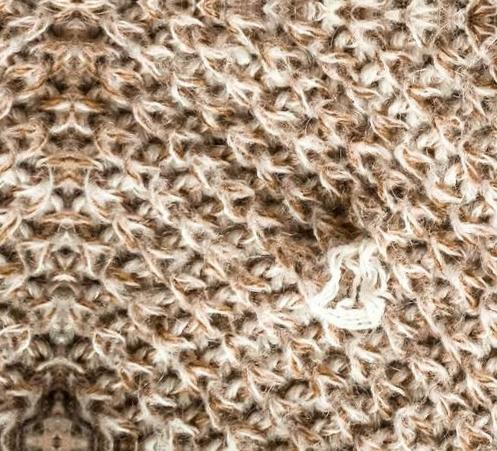snag: (283, 238, 401, 341)
